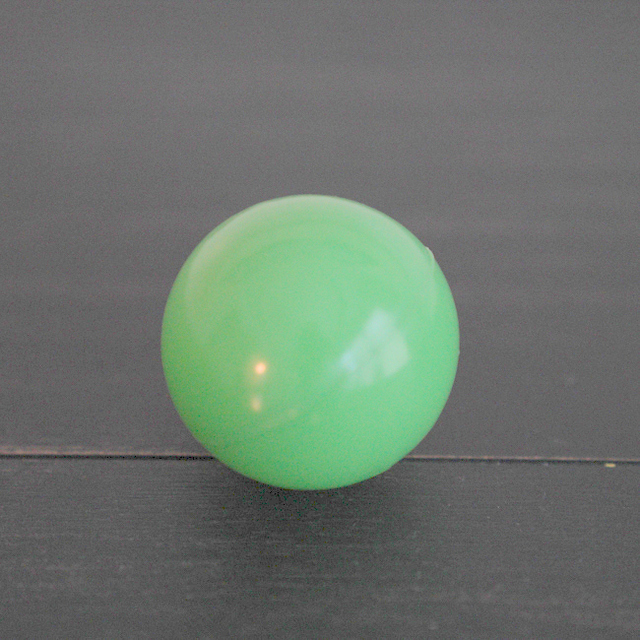Ball: (158, 194, 461, 489)
